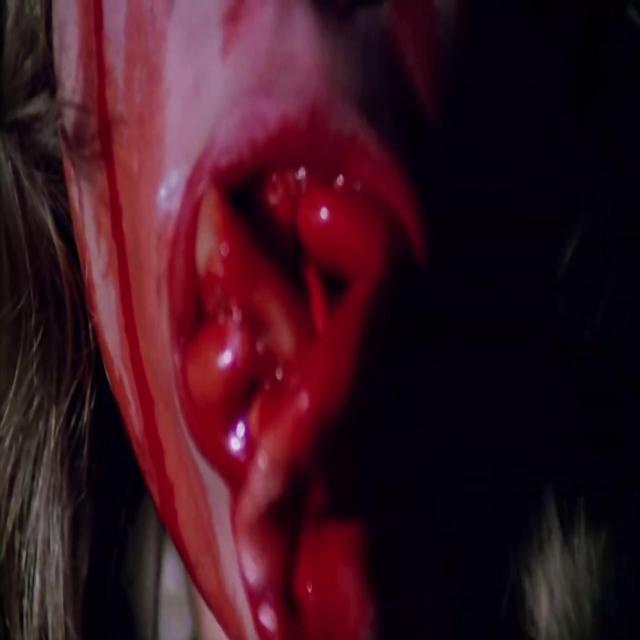flood: (129, 123, 470, 602)
